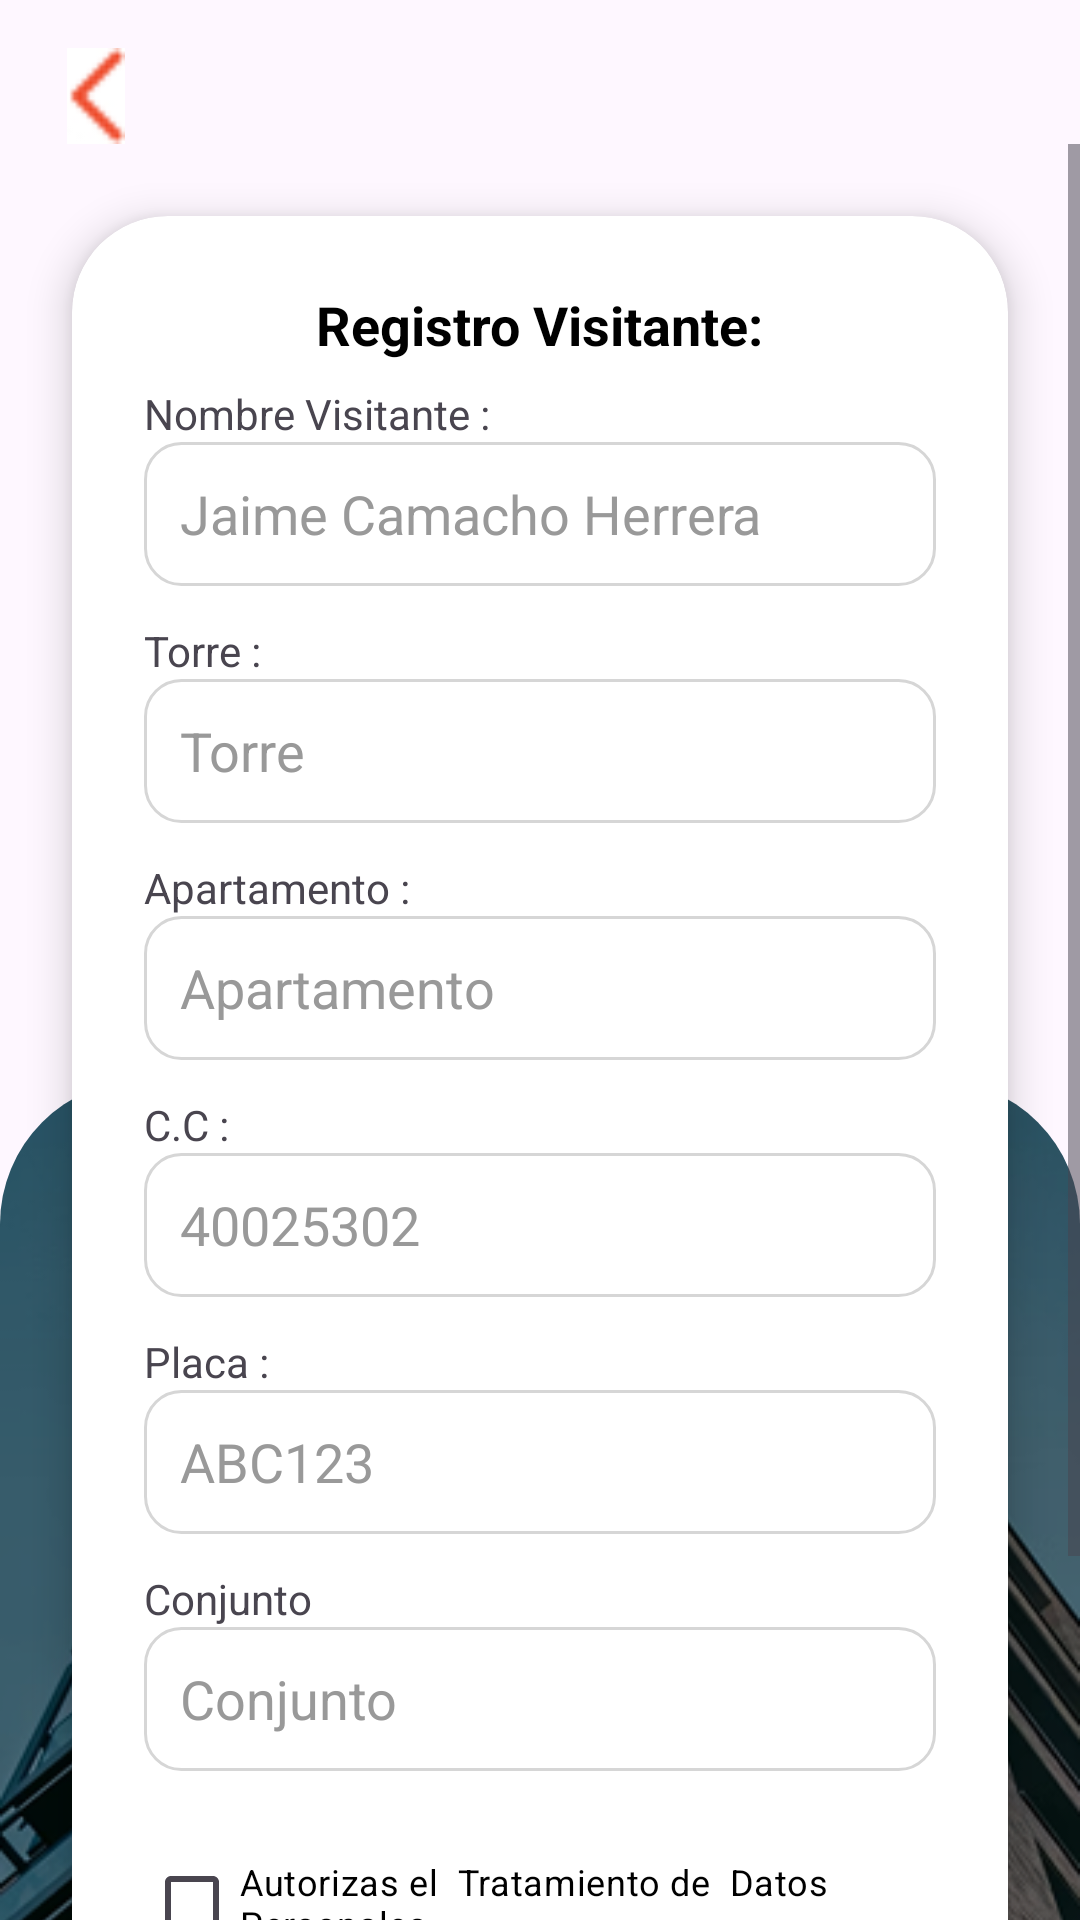

Icons on this 1080 x 1920 Android screen, each with the point to tap as (x,y):
flecha: (97,96)
